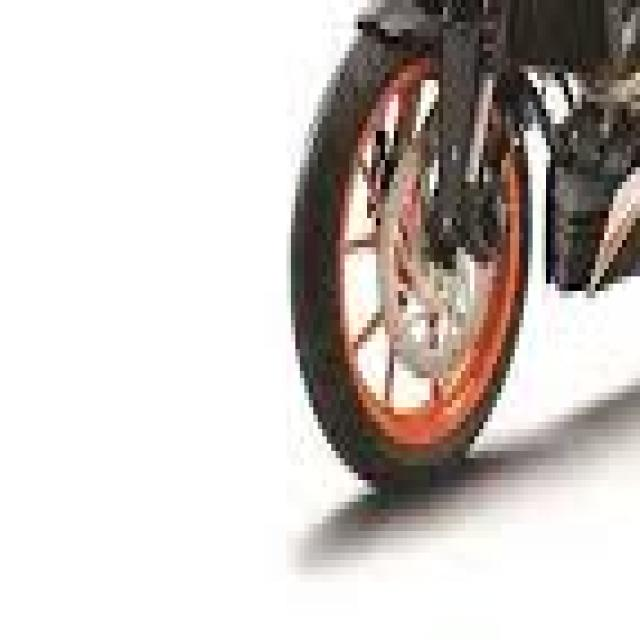bike: (286, 0, 640, 502)
